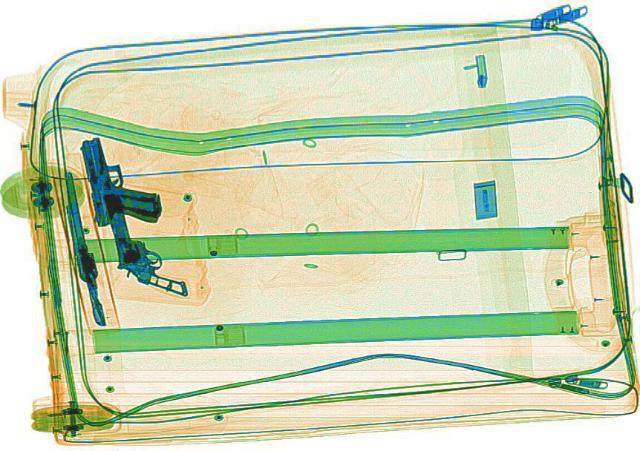Gun: (90, 159, 190, 300), (71, 132, 163, 225), (58, 168, 110, 327)
